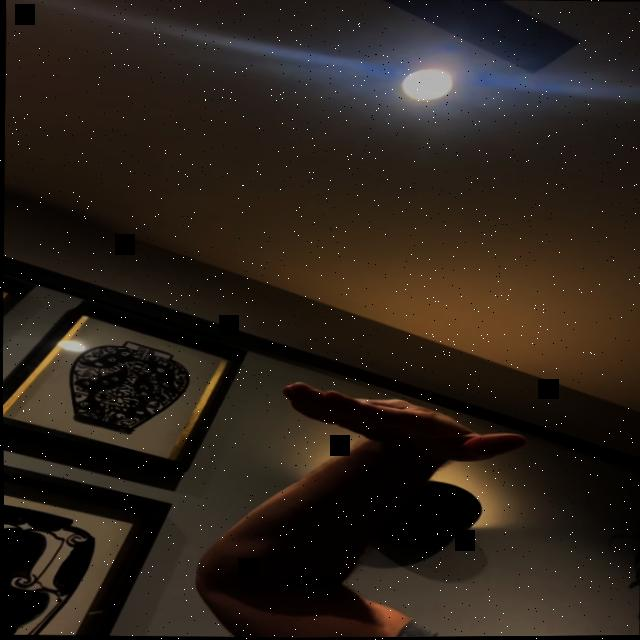Paper: (281, 381, 528, 464)
